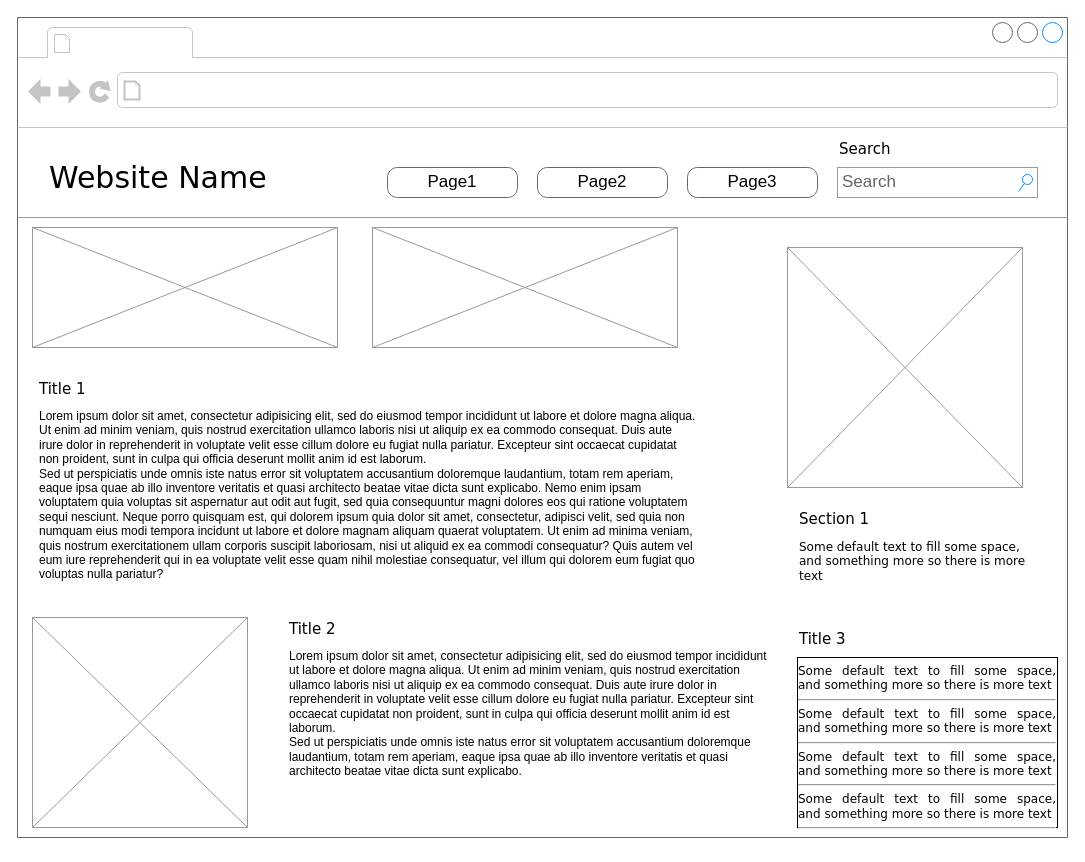
This 1085x862 diagram has some shape labels left out. The centre of each missing label's shape, as x and y in pixels:
https://www.default.com: the point at 272,90
Page 2: the point at 132,42
